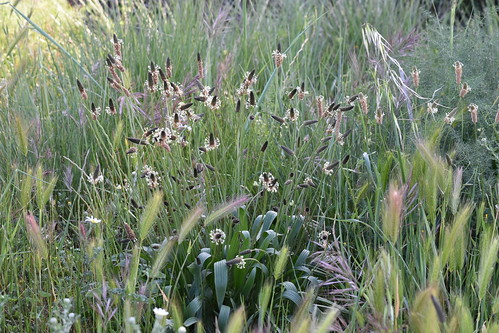buckhorn plantain: (70, 25, 371, 291)
